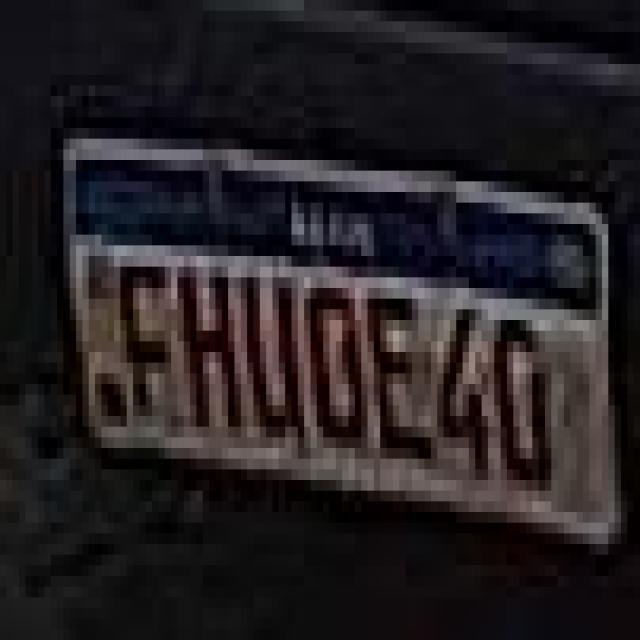0: (491, 292, 566, 516), (306, 283, 361, 465)
4: (437, 283, 488, 502)
E: (363, 273, 438, 477)
F: (110, 248, 177, 434)
H: (177, 254, 236, 444)
U: (236, 269, 304, 476)
